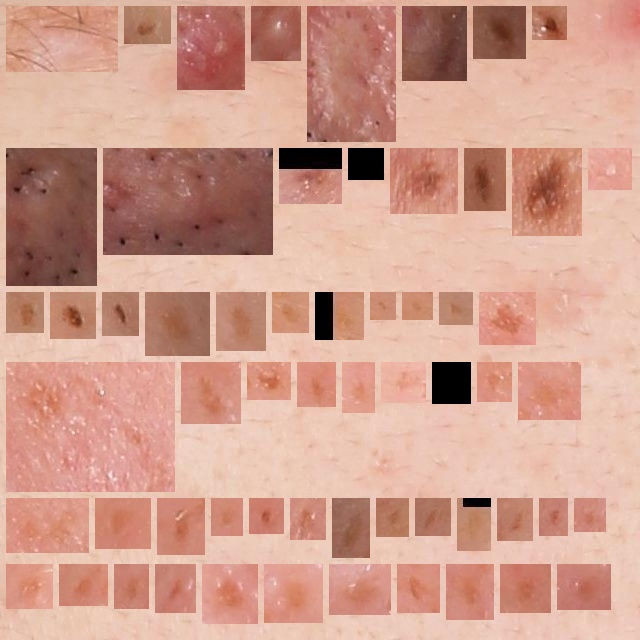hypertrophic_scar: (111, 156, 265, 247), (14, 156, 89, 278), (315, 14, 388, 134), (14, 14, 110, 64), (410, 14, 459, 73), (259, 14, 293, 53)
melasma: (14, 370, 167, 484), (14, 506, 81, 545), (153, 300, 202, 348), (189, 370, 233, 416), (526, 370, 573, 412), (272, 572, 315, 615), (210, 572, 250, 616), (337, 572, 383, 607), (487, 300, 528, 337), (224, 300, 258, 343), (103, 506, 143, 541), (165, 506, 197, 547), (454, 572, 486, 612), (508, 572, 543, 605), (565, 572, 603, 602), (323, 300, 356, 332), (340, 506, 362, 550), (14, 572, 45, 601), (405, 572, 432, 605), (67, 572, 100, 598), (163, 572, 188, 605), (389, 370, 418, 395), (305, 370, 328, 399), (465, 506, 483, 543), (255, 370, 283, 392), (440, 370, 463, 396), (350, 370, 367, 405), (122, 572, 141, 601), (14, 300, 36, 325), (505, 506, 525, 533), (280, 300, 301, 325), (298, 506, 318, 532), (485, 370, 504, 394), (423, 506, 443, 528), (384, 506, 401, 529), (257, 506, 276, 526), (219, 506, 235, 528), (447, 300, 465, 317), (582, 506, 598, 524), (547, 506, 560, 528), (410, 300, 425, 312), (378, 300, 388, 312)
nevus: (520, 156, 574, 228), (398, 156, 450, 206), (287, 156, 334, 196), (481, 14, 518, 51), (472, 156, 498, 203), (58, 300, 88, 331), (132, 14, 163, 36), (110, 300, 131, 328), (540, 14, 559, 32), (356, 156, 376, 172)
pustule: (185, 14, 237, 82), (596, 156, 624, 182)
